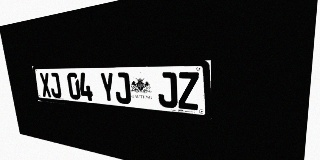0: (66, 73, 81, 100)
4: (78, 72, 93, 101)
J: (157, 72, 178, 108), (114, 72, 131, 104), (48, 73, 62, 98)
X: (39, 73, 52, 97)
Y: (99, 72, 116, 103)
Z: (177, 72, 199, 110)
